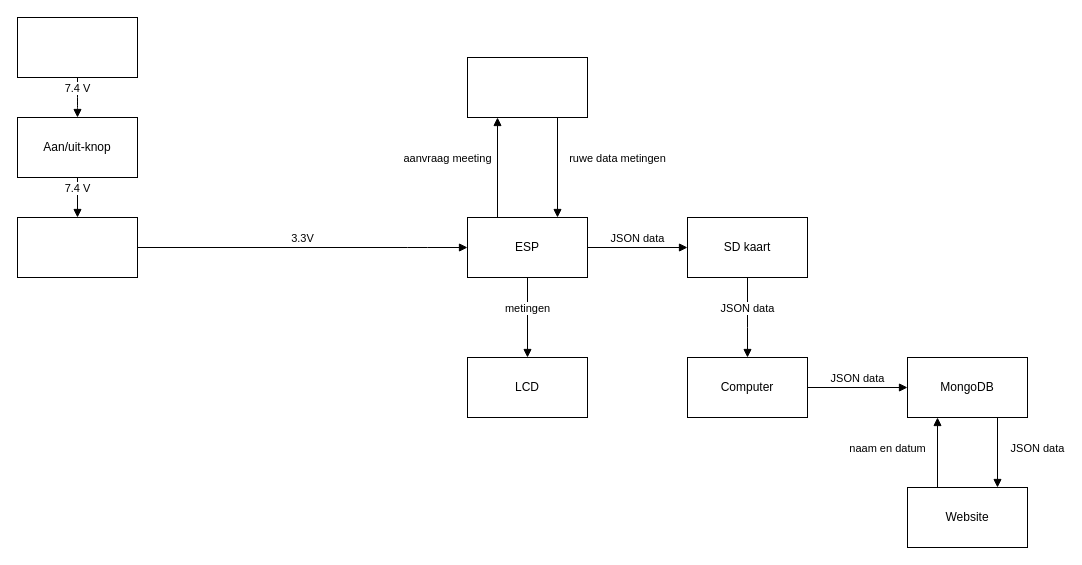
Some shapes in this 1082 by 565 pixel diagram are drawn without their labels. Here are the shapes that lost their labels. From the top down, the centre of each, then its label:
At point 77,47: "Li-Po 2 cell".
At point 527,87: "Sensoren".
At point 77,247: "LDL1117".
